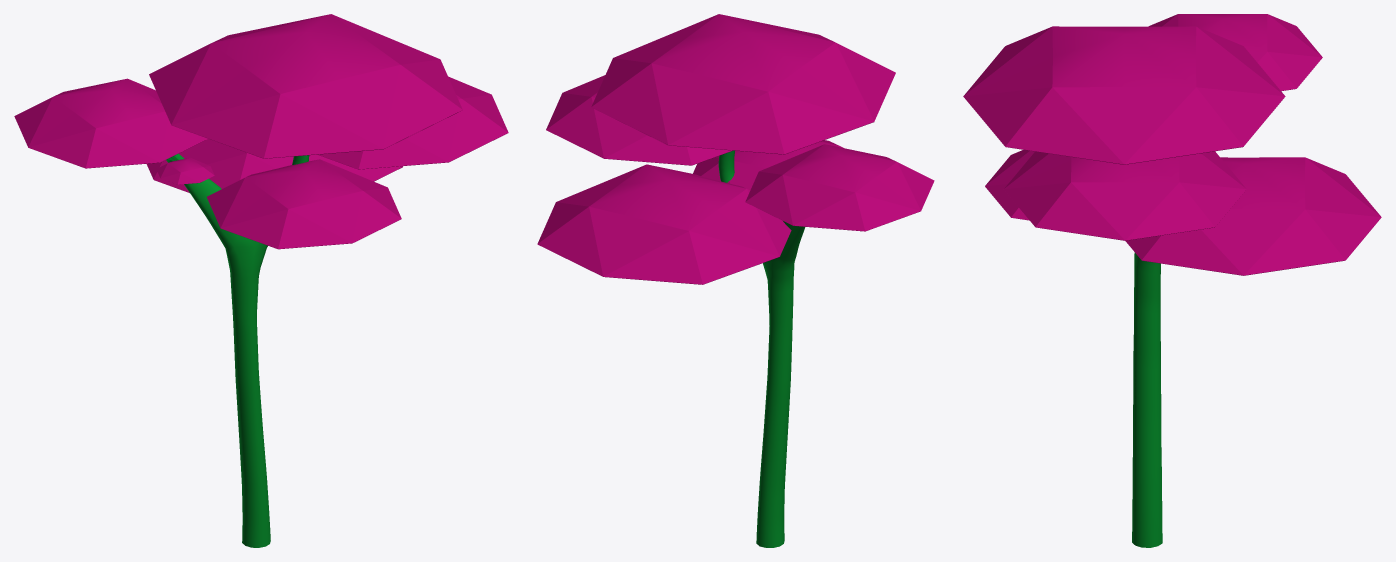
File: tree.fbx
3 views of the same model, side by side, from view 1: azimuth 30°, elevation 25°; view 2: azimuth 150°, elevation 25°; view 3: azimuth 270°, elevation 25° (orthographic). The views are drawn at different scales.
Visible parts, largest first — view 1: NGon003; view 2: NGon003; view 3: NGon003.
Boxes of the visible parts, bbox=[...] form: NGon003: bbox=[14, 14, 508, 547]; NGon003: bbox=[537, 14, 934, 547]; NGon003: bbox=[963, 14, 1381, 547].
Size of the model in its own units: 660 by 769 by 554.
